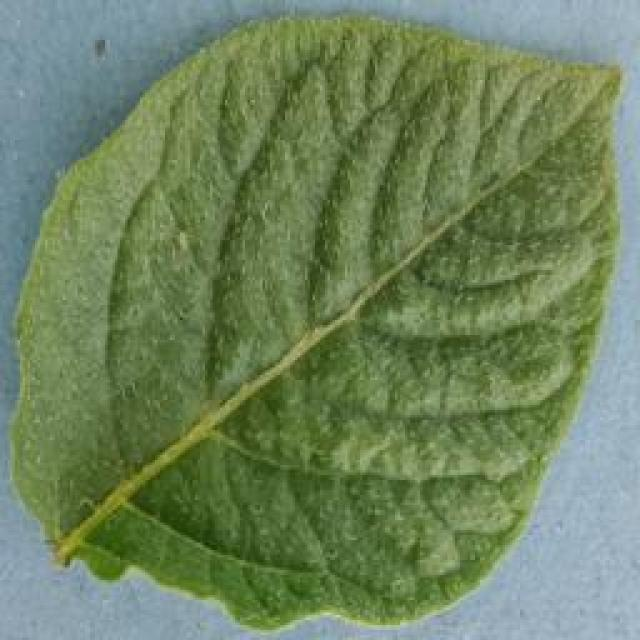Potato_Healthy: (5, 3, 634, 636)
